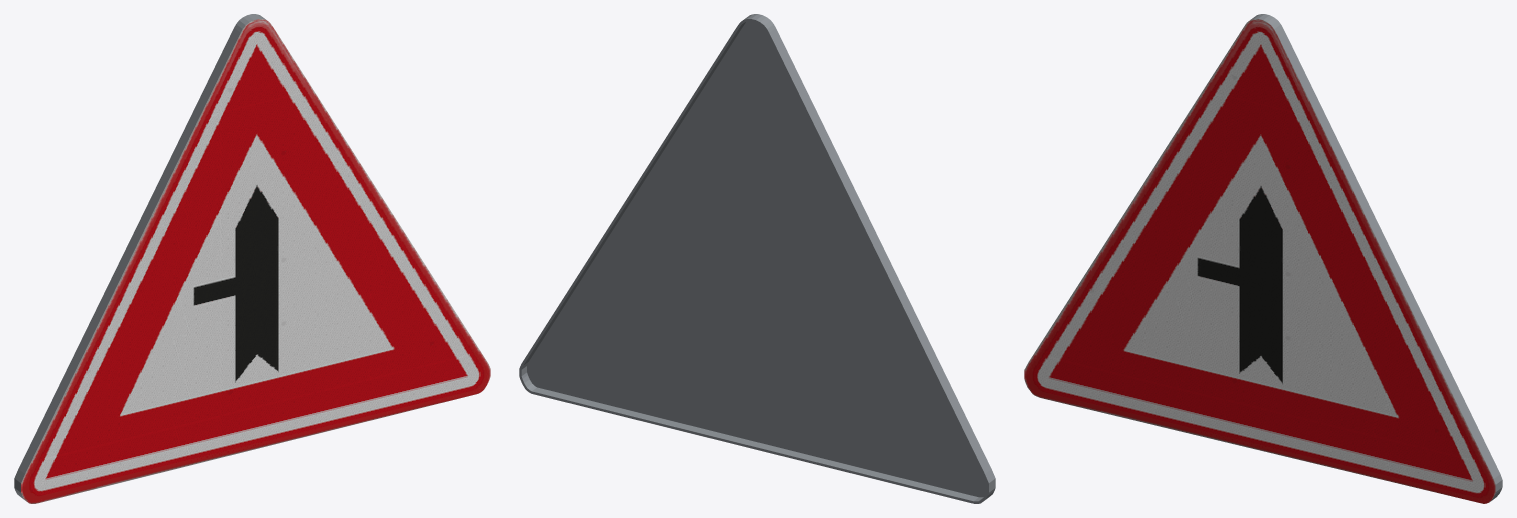
3 renders of one model, left to right at view 1: azimuth 30°, elevation 25°; view 2: azimuth 150°, elevation 25°; view 3: azimuth 330°, elevation 25°, orthographic.
Parts seen in each view (by area): view 1: cat_613b4cf6dcdafd23; view 2: cat_613b4cf6dcdafd23; view 3: cat_613b4cf6dcdafd23.
Part boxes in pixels (x1,y1,x2,y2): cat_613b4cf6dcdafd23: (14, 14, 490, 503); cat_613b4cf6dcdafd23: (519, 14, 995, 503); cat_613b4cf6dcdafd23: (1024, 14, 1502, 503).
Size of the model in its own units: 0.6 by 0.015 by 0.5256.
2 materials, 1 textured.
